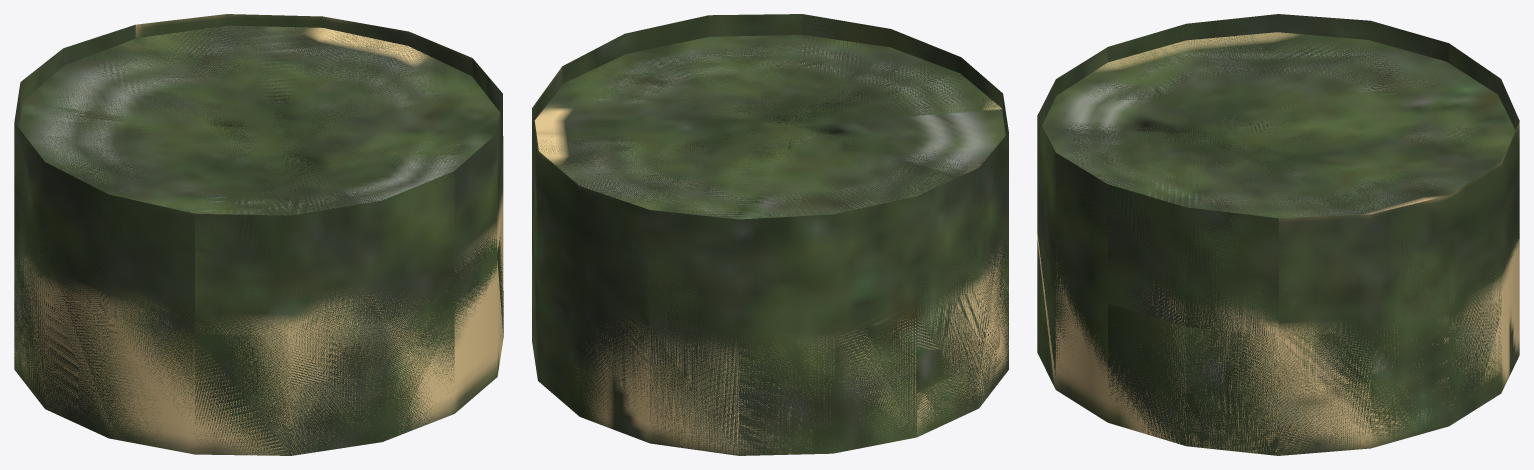
Rendered from CrackerCan.fbx.
3 views of the same model, side by side, from view 1: azimuth 30°, elevation 25°; view 2: azimuth 150°, elevation 25°; view 3: azimuth 270°, elevation 25° (orthographic). The views are drawn at different scales.
Visible parts, largest first — view 1: Cylinder.001, Cylinder.002; view 2: Cylinder.001, Cylinder.002; view 3: Cylinder.001, Cylinder.002.
Part boxes in pixels (x1,y1,x2,y2): Cylinder.001: (14, 14, 503, 455); Cylinder.002: (19, 25, 499, 215); Cylinder.001: (532, 14, 1008, 455); Cylinder.002: (534, 35, 1005, 219); Cylinder.001: (1037, 14, 1519, 455); Cylinder.002: (1042, 32, 1515, 218).
Size of the model in its own units: 180 by 101 by 180.
Materials: 1 (1 with a texture image).
